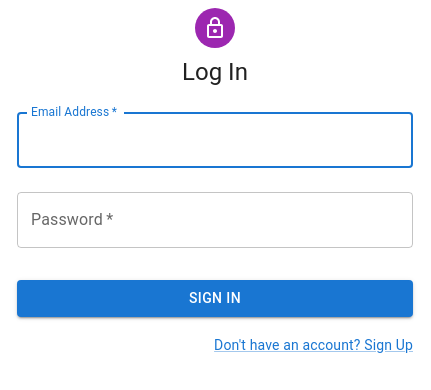
App Component Tests › Login Component › displays an error message with invalid credentials
In the field labelled "Email Address *": (215, 140) [17,112,413,168], type "wrong@example.com"
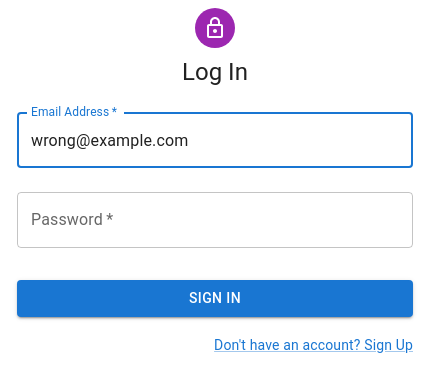
In the password field labelled "Password *": (215, 220) [17,192,413,248], type "wrongpassword"
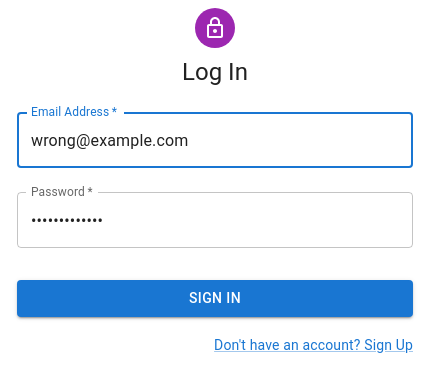
Click the button "Sign In": (215, 298) [17,280,413,316]
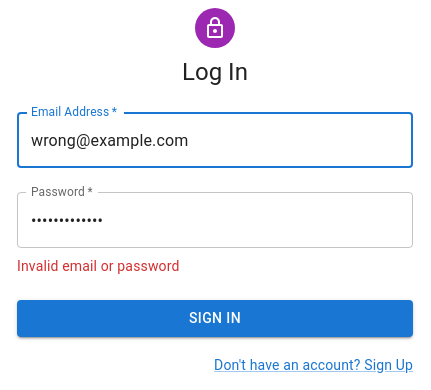
Check: the text "Invalid email or password" is shown, box [17,258,180,274]
